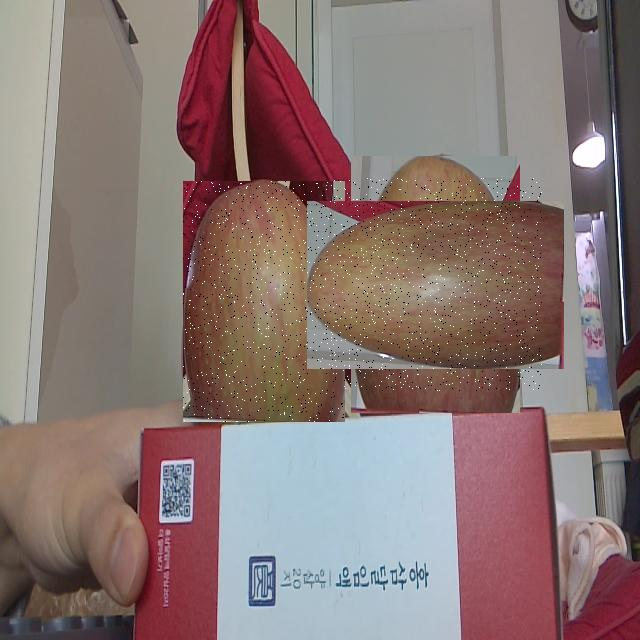apple: (329, 178, 542, 391), (183, 181, 345, 422)
